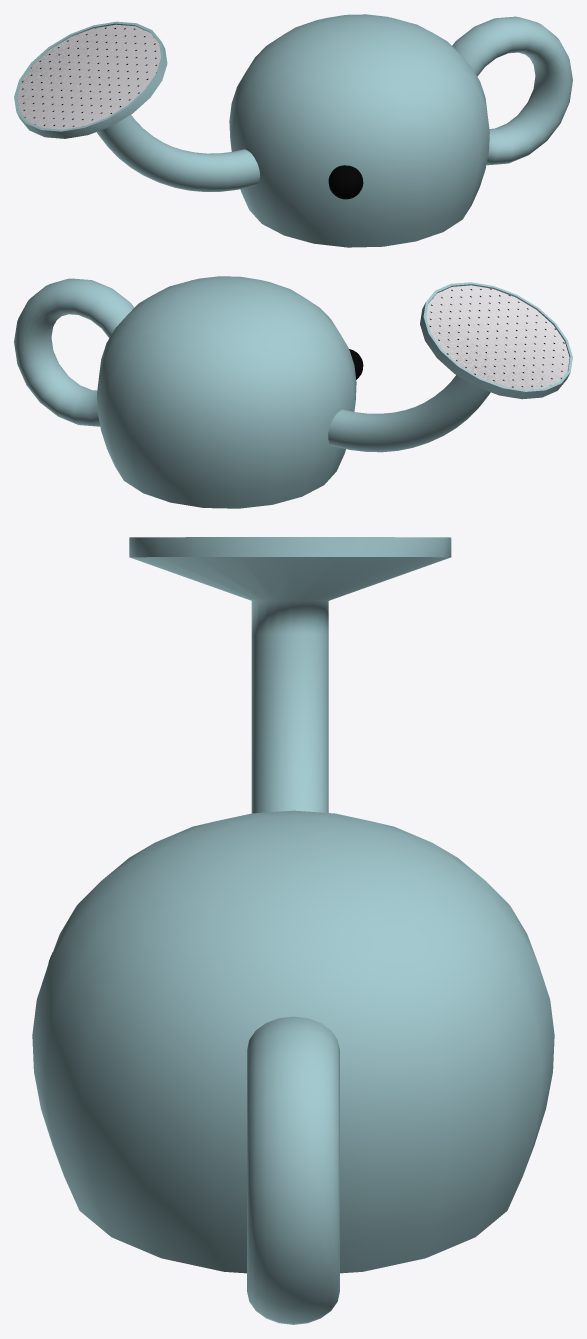
Rendered from watering_can.fbx.
The picture shows the model from 3 angles, top to bottom: view 1: azimuth 30°, elevation 25°; view 2: azimuth 150°, elevation 25°; view 3: azimuth 270°, elevation 25°; orthographic projection. The views are drawn at different scales.
Parts seen in each view (by area): view 1: pSphere1, pCylinder1, pTorus1, pSphere2; view 2: pSphere1, pCylinder1, pTorus1; view 3: pSphere1, pCylinder1, pTorus1.
Part boxes in pixels (<box>): pSphere1: <box>229,14,489,247</box>; pCylinder1: <box>14,21,259,191</box>; pTorus1: <box>452,16,572,165</box>; pSphere2: <box>328,165,363,199</box>; pSphere1: <box>97,276,356,508</box>; pCylinder1: <box>328,282,572,452</box>; pTorus1: <box>14,278,134,426</box>; pSphere1: <box>32,810,554,1273</box>; pCylinder1: <box>129,537,451,813</box>; pTorus1: <box>247,1016,339,1324</box>.
Size of the model in its own units: 4.09 by 1.59 by 1.7.
Materials: 3 (1 with a texture image).
